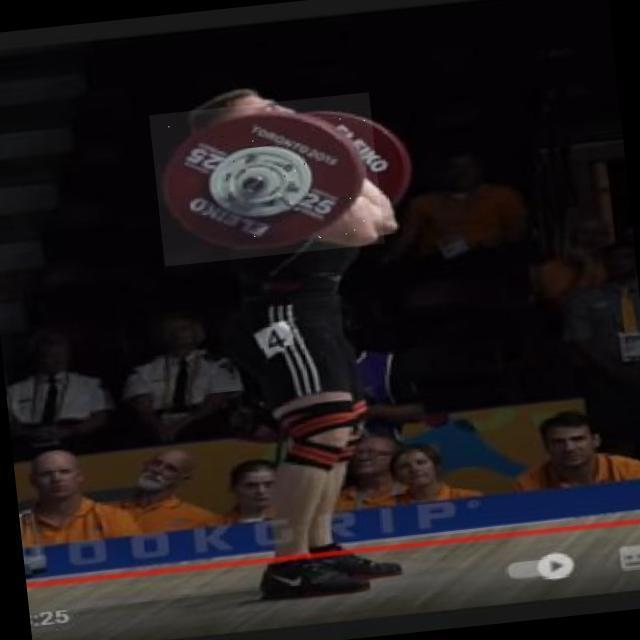barbell: (150, 93, 386, 267)
